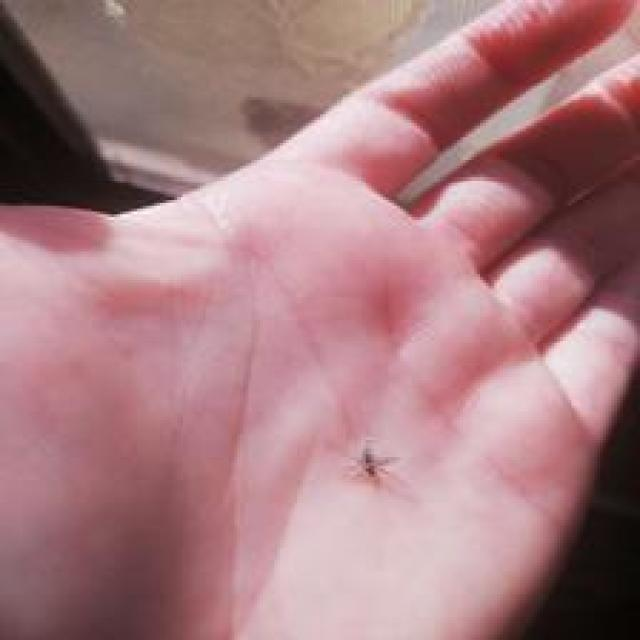Aedes albopictus: (346, 443, 400, 488)
